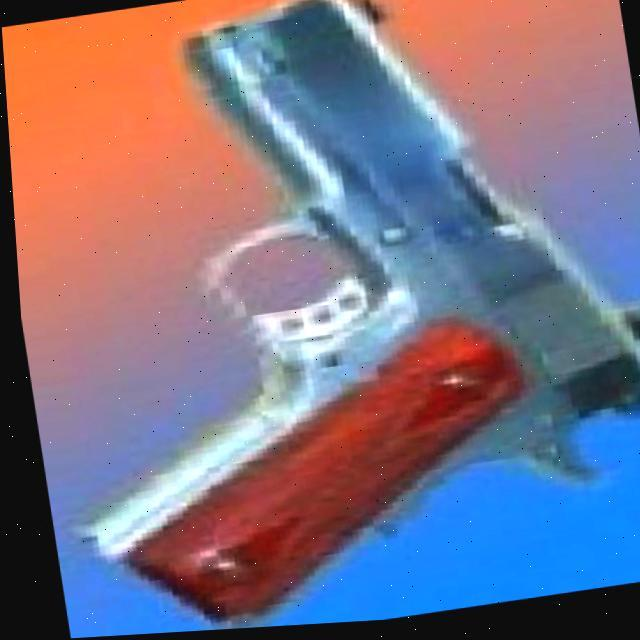gun: (27, 0, 640, 639)
